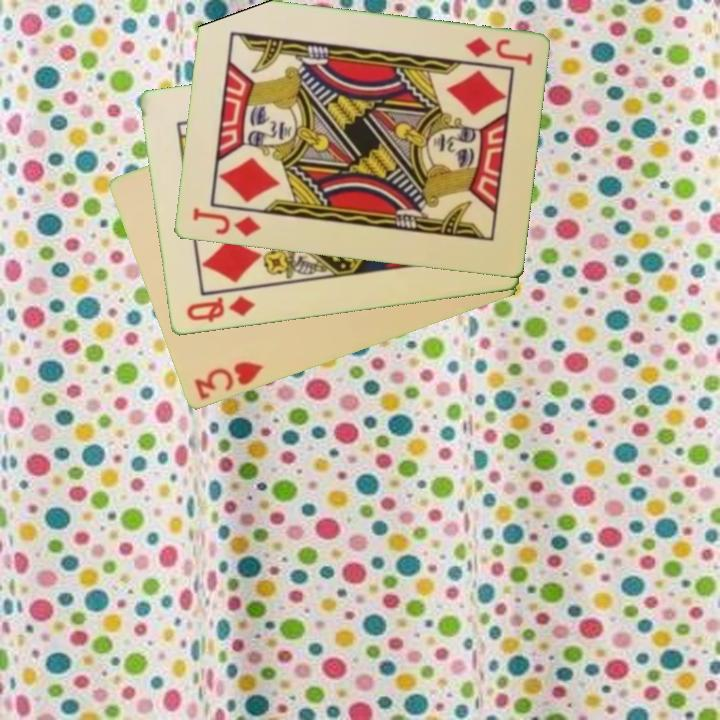3h: (190, 358, 266, 403)
Jd: (189, 204, 263, 240), (461, 34, 535, 70)
Qd: (182, 293, 258, 326)
